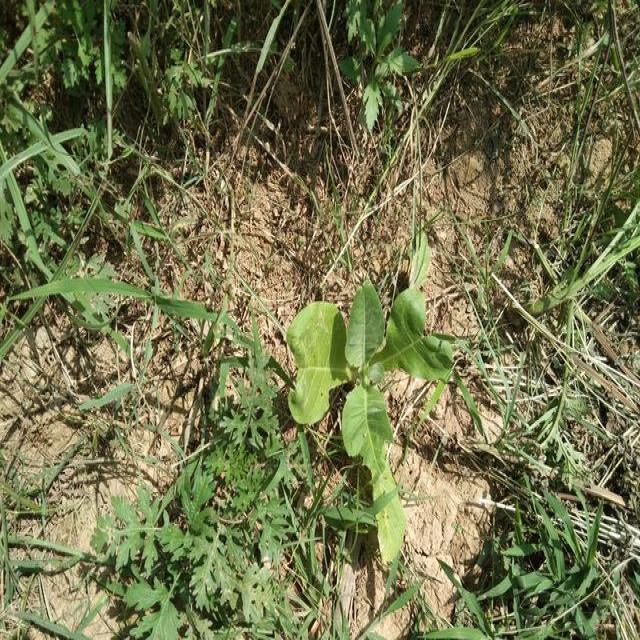crop: (293, 285, 444, 556)
